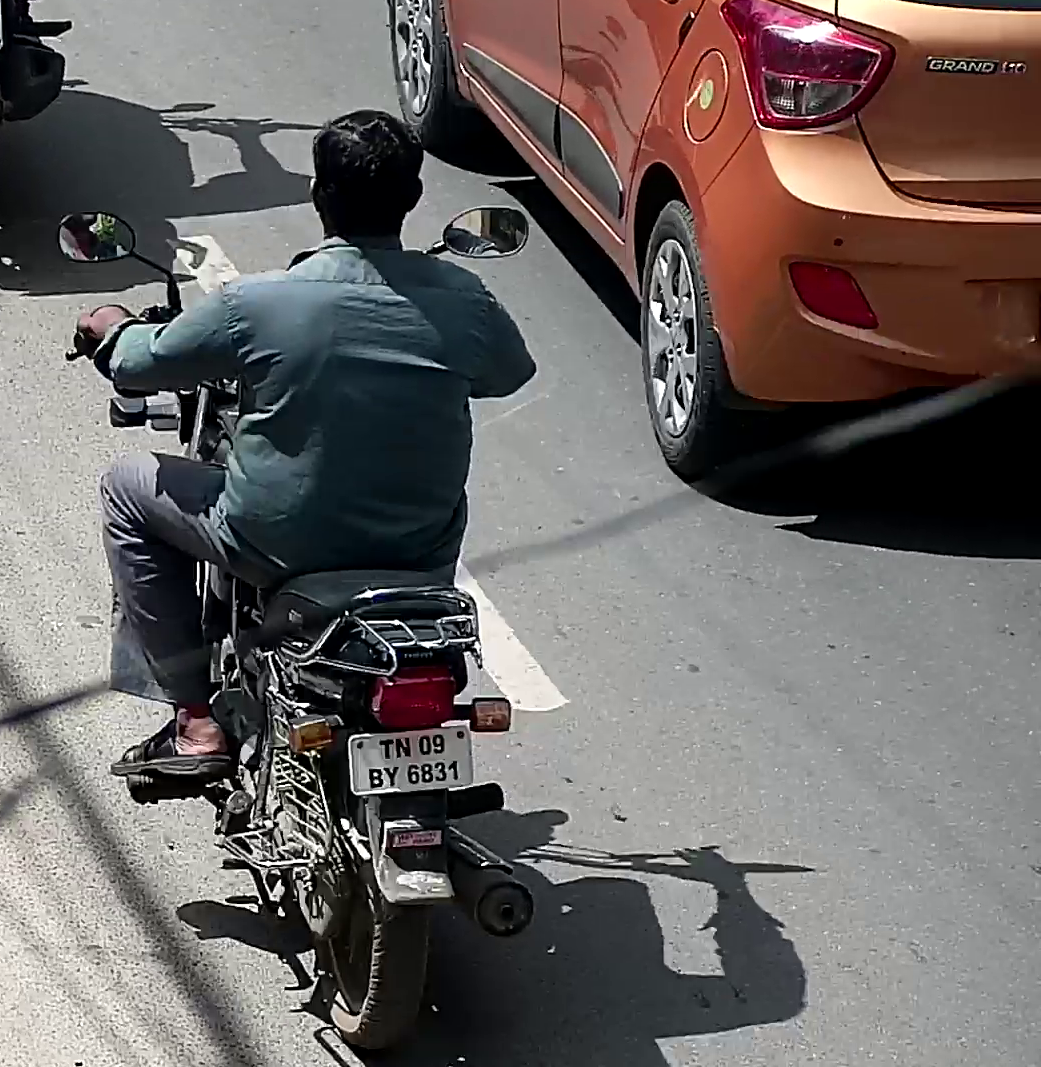0: (418, 735, 431, 755)
1: (448, 760, 459, 781)
3: (434, 761, 447, 782)
6: (407, 764, 420, 784)
8: (420, 763, 433, 783)
9: (431, 734, 445, 754)
B: (368, 768, 383, 789)
N: (394, 737, 411, 758)
P16: (347, 722, 475, 798)
T: (378, 739, 394, 760)
Y: (383, 766, 400, 787)
